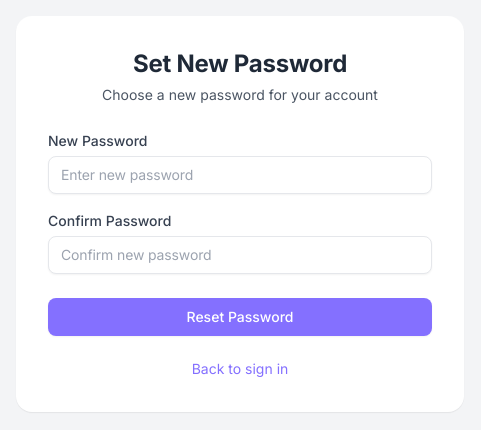
Test: ResetPasswordView › shows success message after resetting
The width and height of the screenshot is (481, 430).
Type "newpassword" into the password field with id "reset-password" at (240, 175), box x1=48 y1=156 x2=432 y2=194
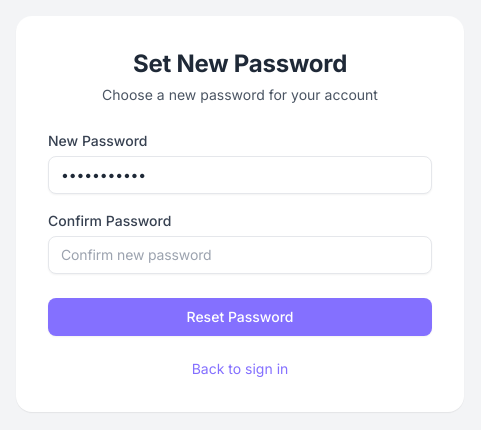
Type "newpassword" into the password field with id "reset-confirm" at (240, 255), box x1=48 y1=236 x2=432 y2=274
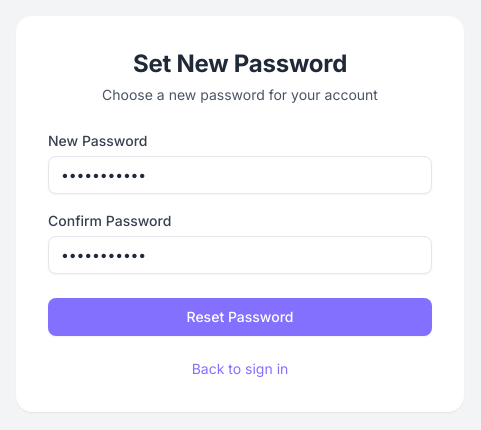
Submit the form, box x1=48 y1=130 x2=432 y2=336
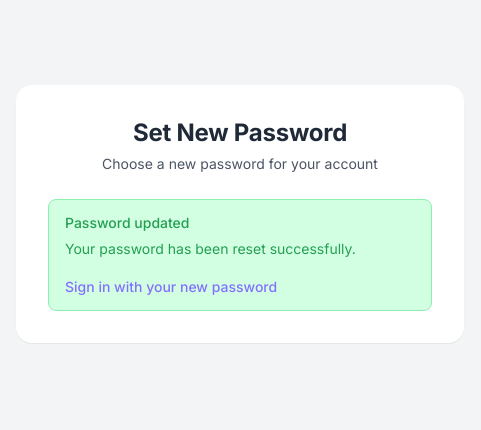
Now the text "Password updated" is shown, box x1=65 y1=214 x2=190 y2=231
Now the text "Sign in with your new password" is shown, box x1=65 y1=278 x2=277 y2=295
